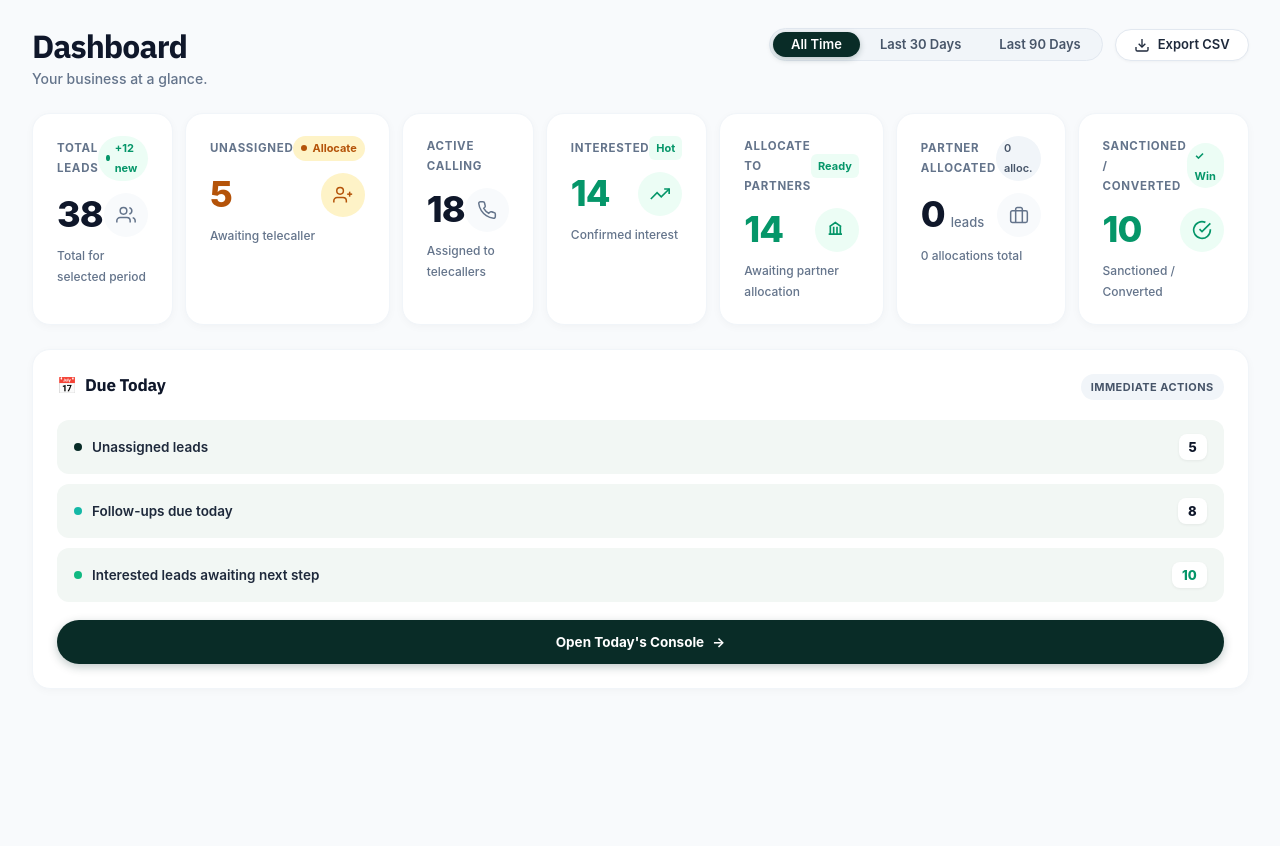
DSA OS — Clickable Dashboard & Lead Management Journey › clicking Due Today Unassigned leads row opens unassigned view
The image size is (1280, 846).
What coordinates should you click on to do the following:
click the button with test id "due-row-unassigned"
I would click on:
 (150, 447)
Its box is [57,420,1224,474].
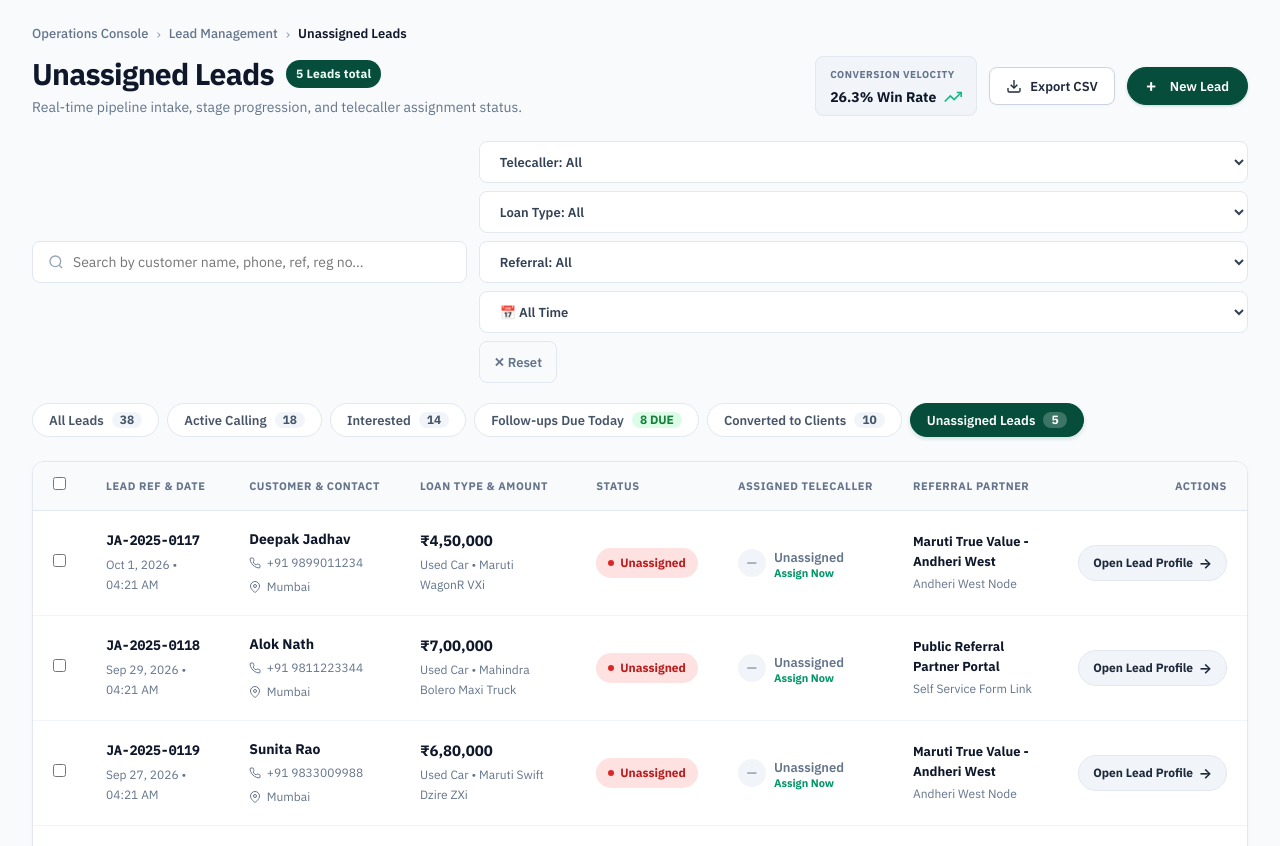
Check: the heading "Unassigned Leads" is shown, box [32,56,274,92]
